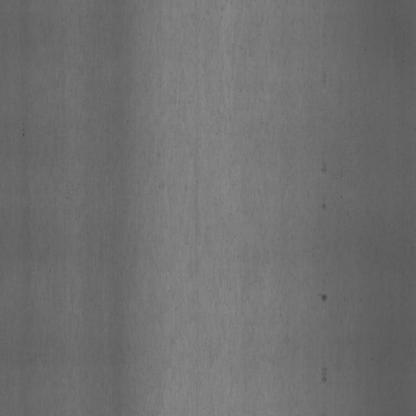oil_spot: (317, 356, 328, 391), (320, 192, 330, 214), (319, 284, 330, 303), (321, 155, 328, 179)
